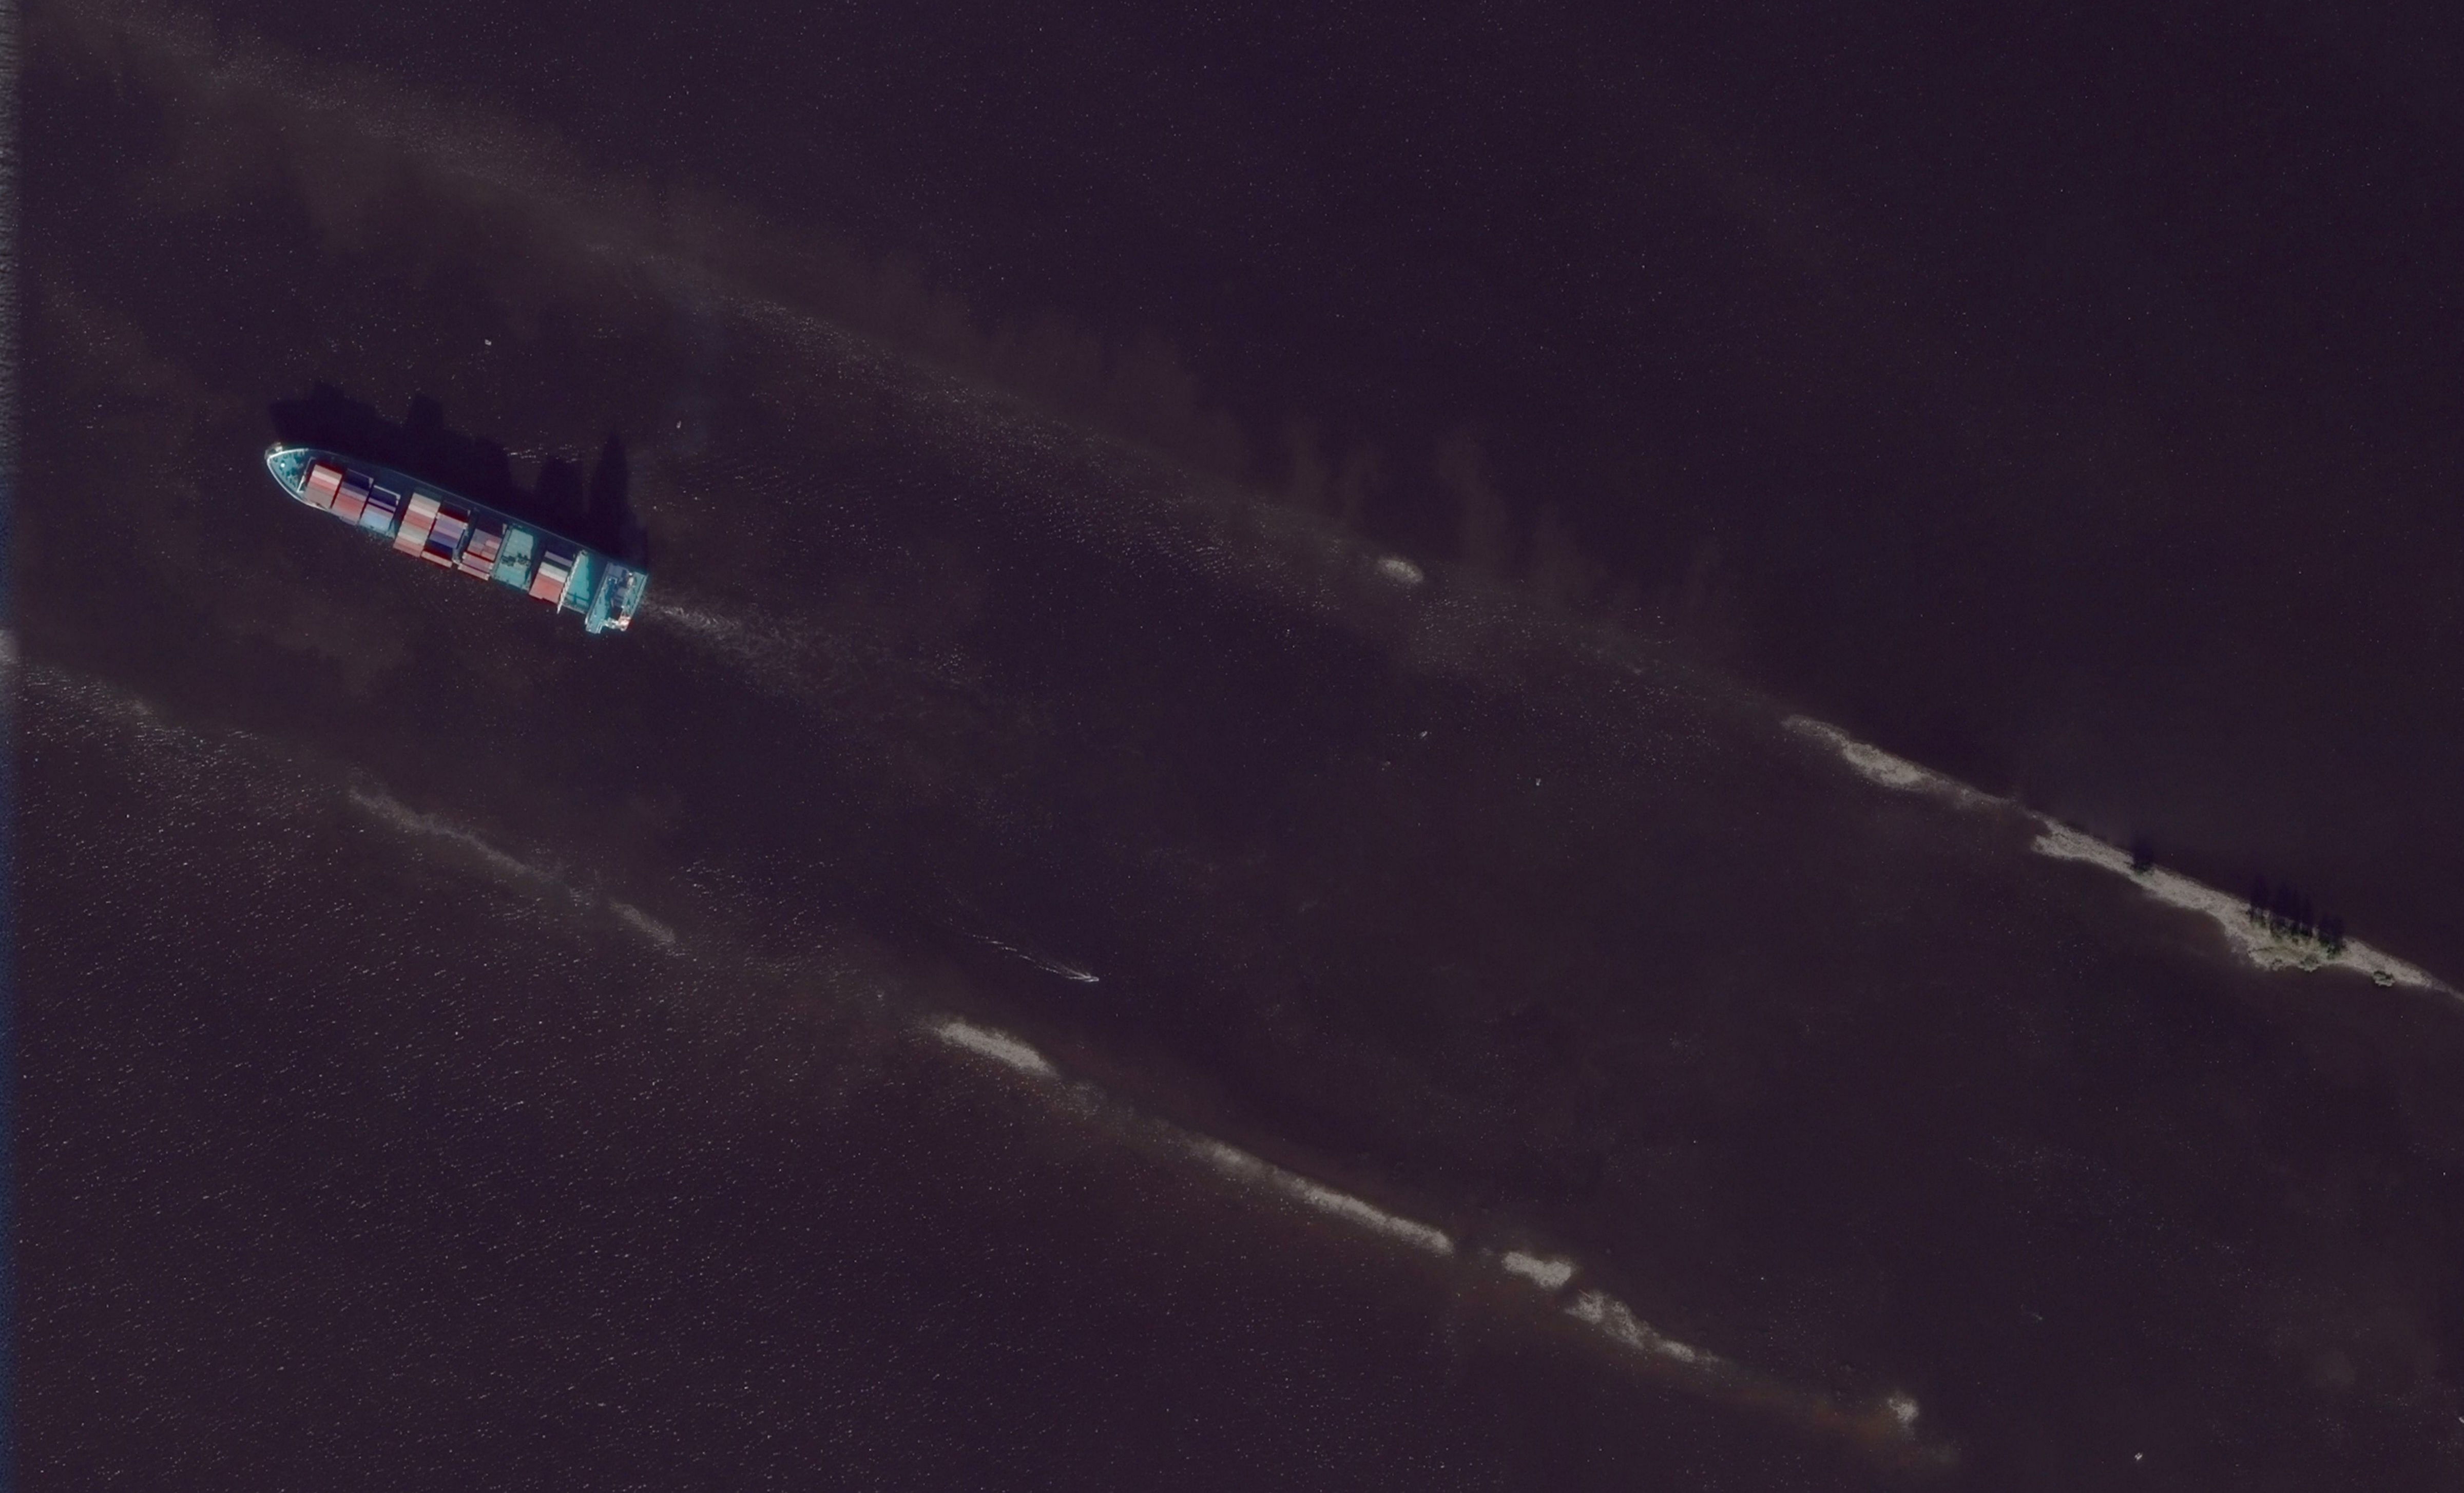boat: (257, 444, 651, 639), (1084, 974, 1100, 984)
